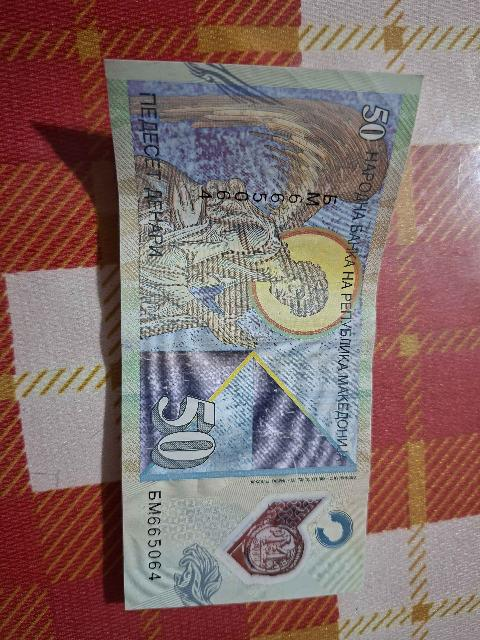note: (100, 61, 419, 610)
